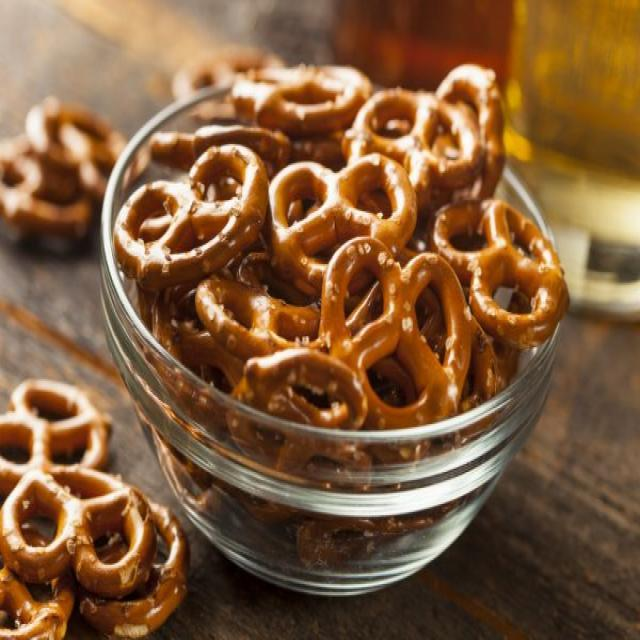Salatini: (108, 59, 578, 425), (2, 389, 188, 640)
